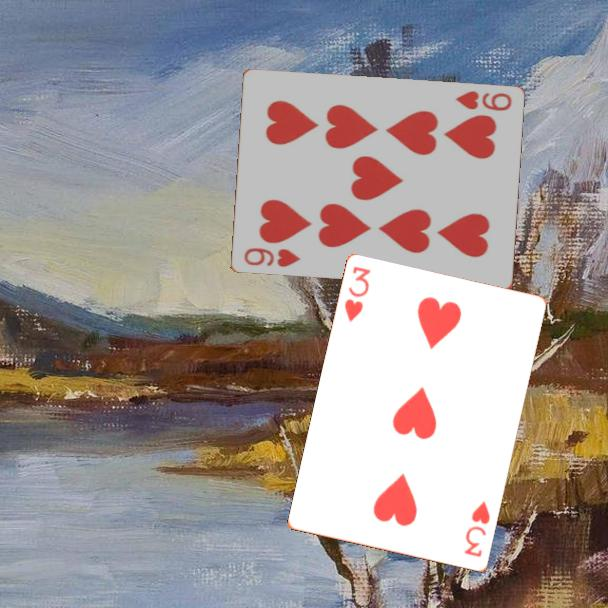h03: (341, 263, 374, 325), (461, 498, 493, 560)
h09: (240, 244, 303, 270), (452, 88, 514, 114)
